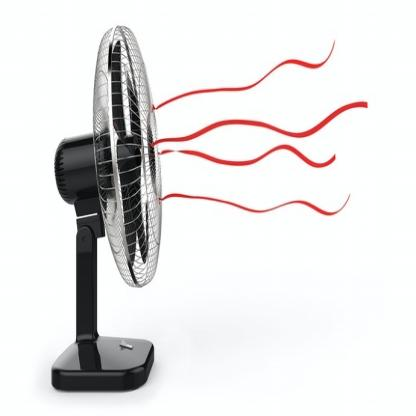fan: (41, 21, 188, 402)
